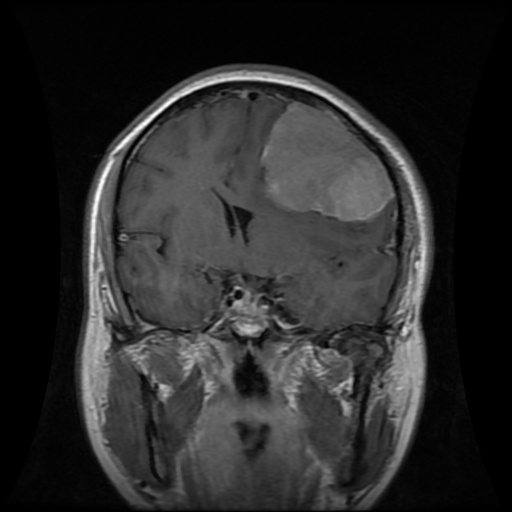meningioma: (262, 100, 394, 219)
